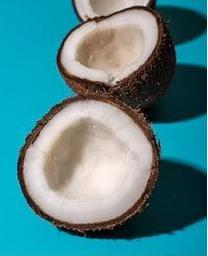coconut: (18, 93, 159, 233), (56, 6, 176, 112)
